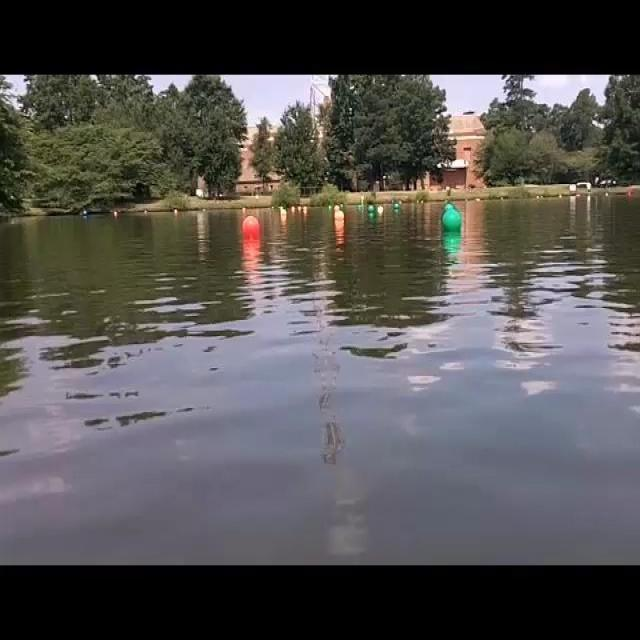buoy: (440, 210, 462, 237), (243, 214, 259, 237)
